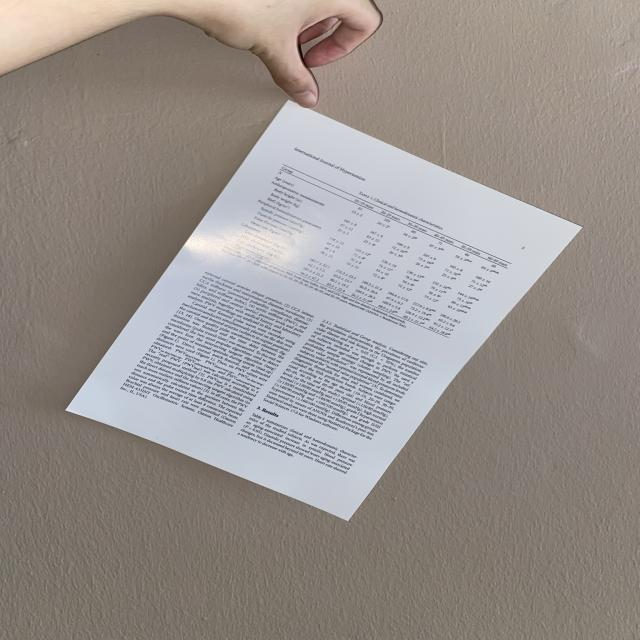document: (67, 102, 580, 519)
